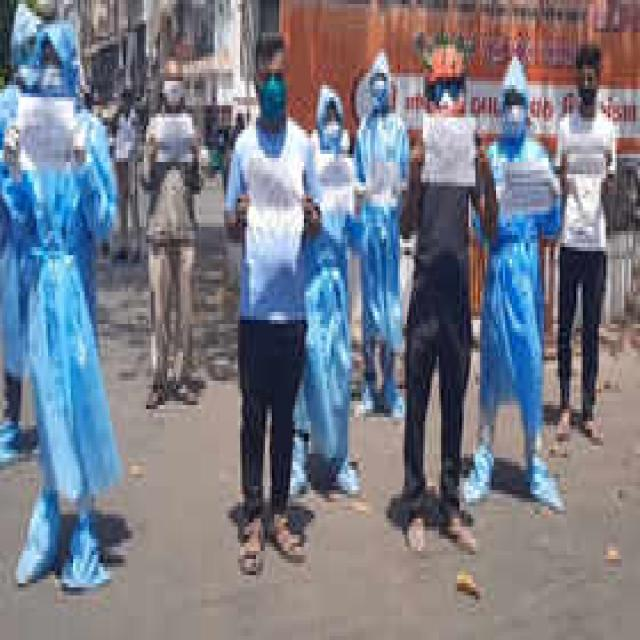Coverall: (459, 16, 578, 555), (18, 0, 108, 604), (288, 65, 361, 502), (332, 16, 412, 405)
Mask: (240, 85, 293, 146), (311, 105, 347, 158), (496, 101, 526, 134), (359, 81, 393, 109)
